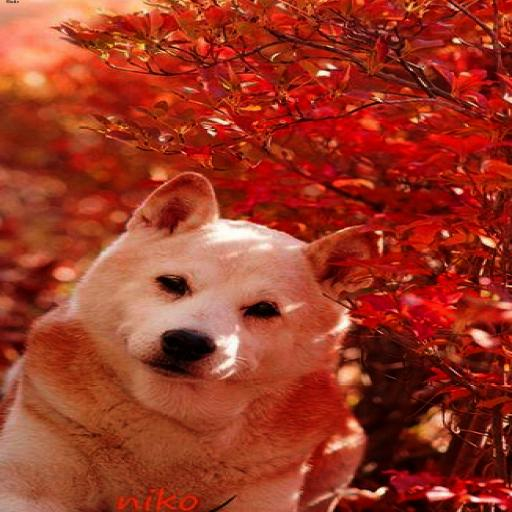dog_face: (94, 175, 390, 386)
